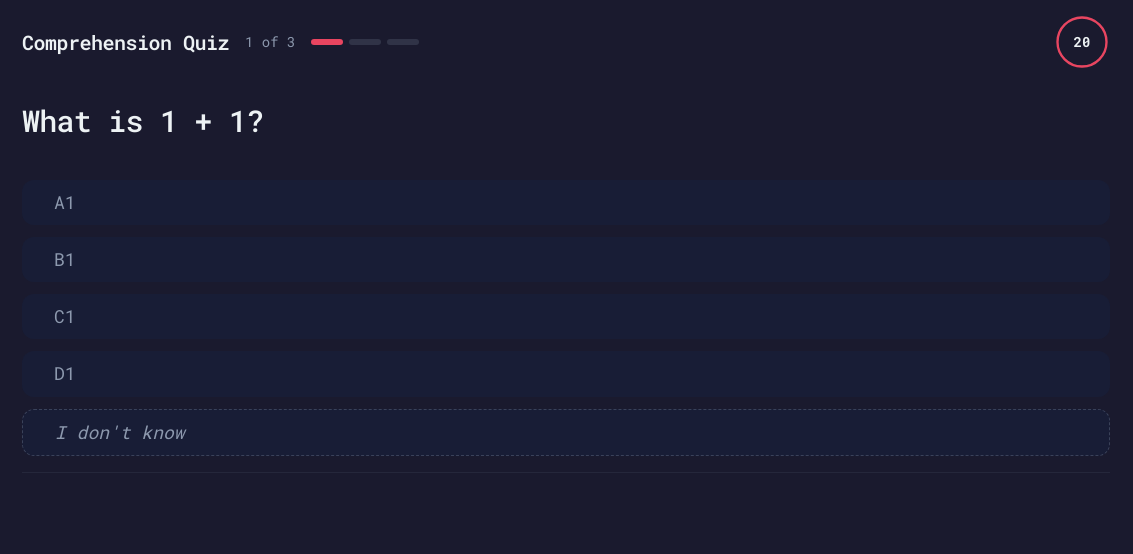
Test: PvpQuiz › shows Next Question button after selecting an answer
Expected: the text "Next Question" is not shown
Click the button "B1": (65, 259) x1=22 y1=237 x2=1110 y2=282
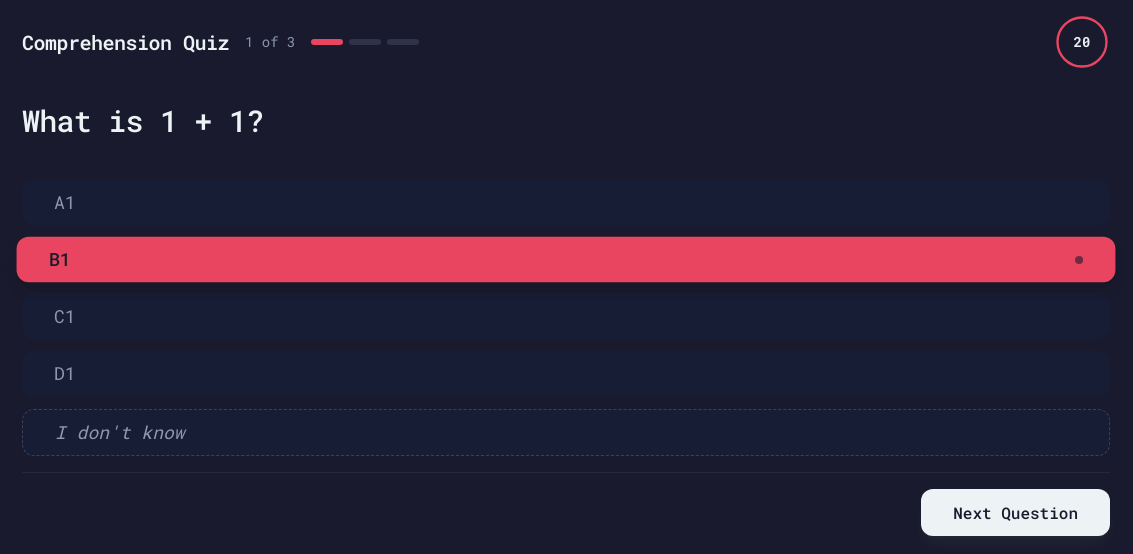
Expected: the button "Next Question" is shown, x1=921 y1=489 x2=1110 y2=536
